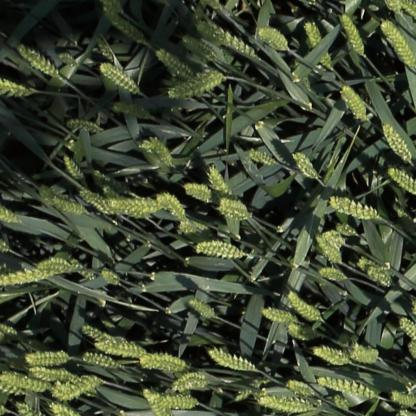whd: (166, 68, 228, 102), (380, 20, 416, 70), (317, 375, 380, 401), (101, 6, 144, 43), (50, 374, 108, 401), (17, 44, 60, 78), (139, 349, 192, 376), (303, 19, 333, 66), (206, 346, 258, 373), (327, 194, 383, 219), (106, 194, 168, 216), (98, 62, 140, 94), (39, 186, 87, 214), (195, 235, 246, 261), (27, 360, 76, 386), (382, 122, 413, 163), (33, 255, 88, 278), (339, 12, 366, 58), (206, 164, 238, 202), (214, 31, 257, 58), (77, 351, 127, 374), (182, 36, 223, 64), (166, 370, 209, 396), (286, 292, 322, 323), (155, 48, 193, 77), (340, 82, 368, 120), (90, 169, 130, 194), (144, 134, 174, 167), (94, 337, 146, 356), (258, 394, 312, 412), (0, 370, 46, 391), (314, 233, 342, 267), (78, 188, 113, 215), (155, 192, 186, 222), (0, 78, 38, 102), (180, 178, 214, 204), (233, 375, 265, 402), (388, 166, 416, 196), (357, 254, 391, 278), (142, 387, 170, 416), (1, 265, 43, 284), (292, 152, 319, 180), (59, 152, 84, 182), (80, 326, 116, 346), (92, 34, 116, 64), (256, 28, 288, 50), (24, 351, 70, 366), (398, 313, 416, 350), (111, 102, 152, 118), (195, 21, 221, 46), (157, 395, 203, 409), (68, 258, 94, 282), (314, 348, 350, 365), (395, 206, 415, 236), (218, 205, 254, 221), (177, 216, 210, 233), (177, 379, 216, 393), (247, 148, 277, 166), (187, 300, 215, 319), (365, 268, 391, 288), (317, 268, 350, 283), (260, 309, 295, 323), (284, 381, 314, 397), (286, 326, 314, 342), (99, 268, 121, 287), (390, 392, 416, 408), (400, 0, 416, 25), (331, 392, 350, 413), (66, 119, 99, 131), (0, 208, 22, 226), (219, 199, 247, 213), (385, 0, 405, 19), (350, 350, 376, 364), (323, 230, 342, 249), (0, 383, 30, 395), (48, 403, 76, 415), (14, 402, 38, 416), (334, 224, 357, 236), (0, 323, 18, 338), (56, 52, 75, 66)
